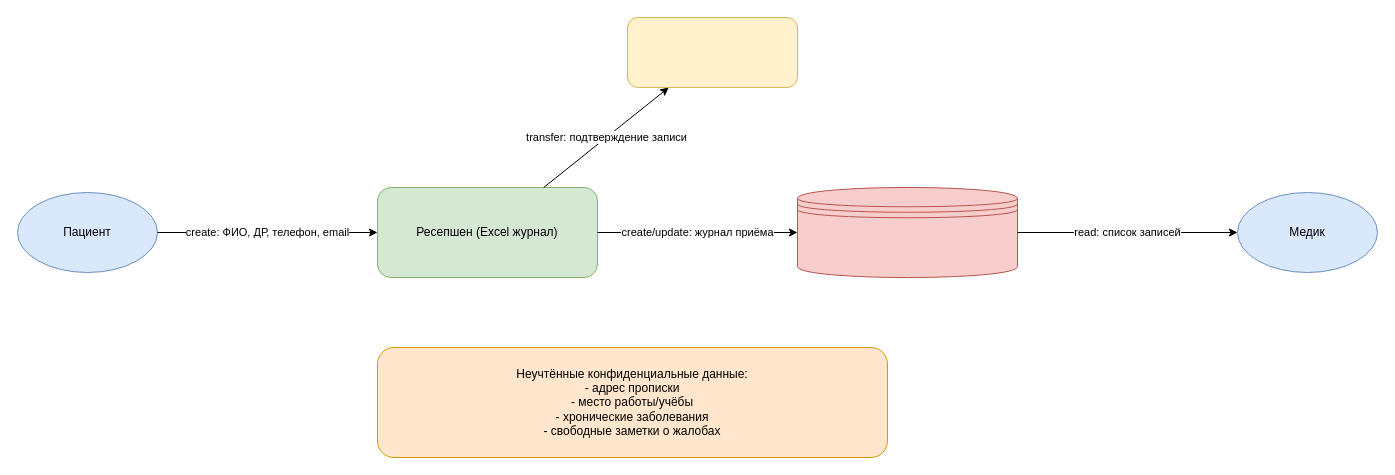
Image size: 1395x475. Some labels were removed from this diagram. Here are the shapes that lost their labels. From the top down, the centre of each, then its label:
point 712,52: Outlook / почта
point 907,232: Общий диск (Excel/PDF/JPG)
